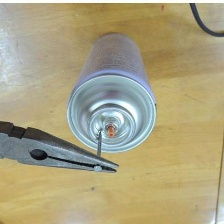aerosol_cans: (61, 28, 162, 160)
